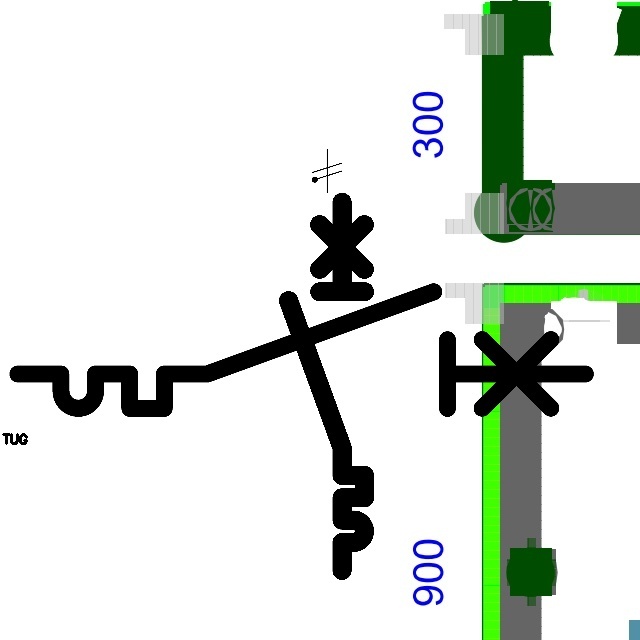interruptor_termomagnetico: (3, 277, 600, 423), (279, 192, 374, 579)
